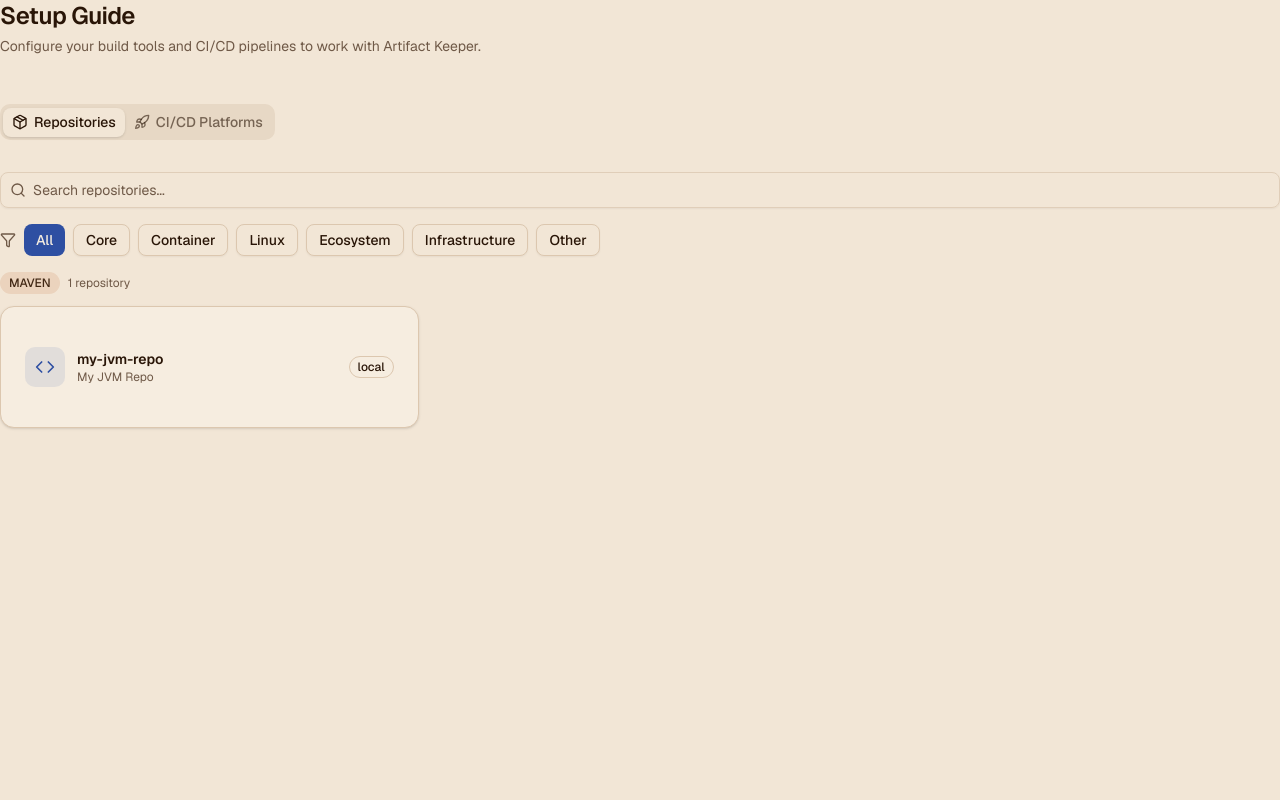
Test: SetupPage - JVM client variants › shows pom.xml snippet on the Maven tab (the default for maven format)
Expected: the text "my-jvm-repo" is shown, [77, 350, 163, 368]
What coordinates should you click on to do the following:
click the text "my-jvm-repo"
I would click on:
 (209, 367)
Its box is [0, 306, 419, 428].
(page scrolled)
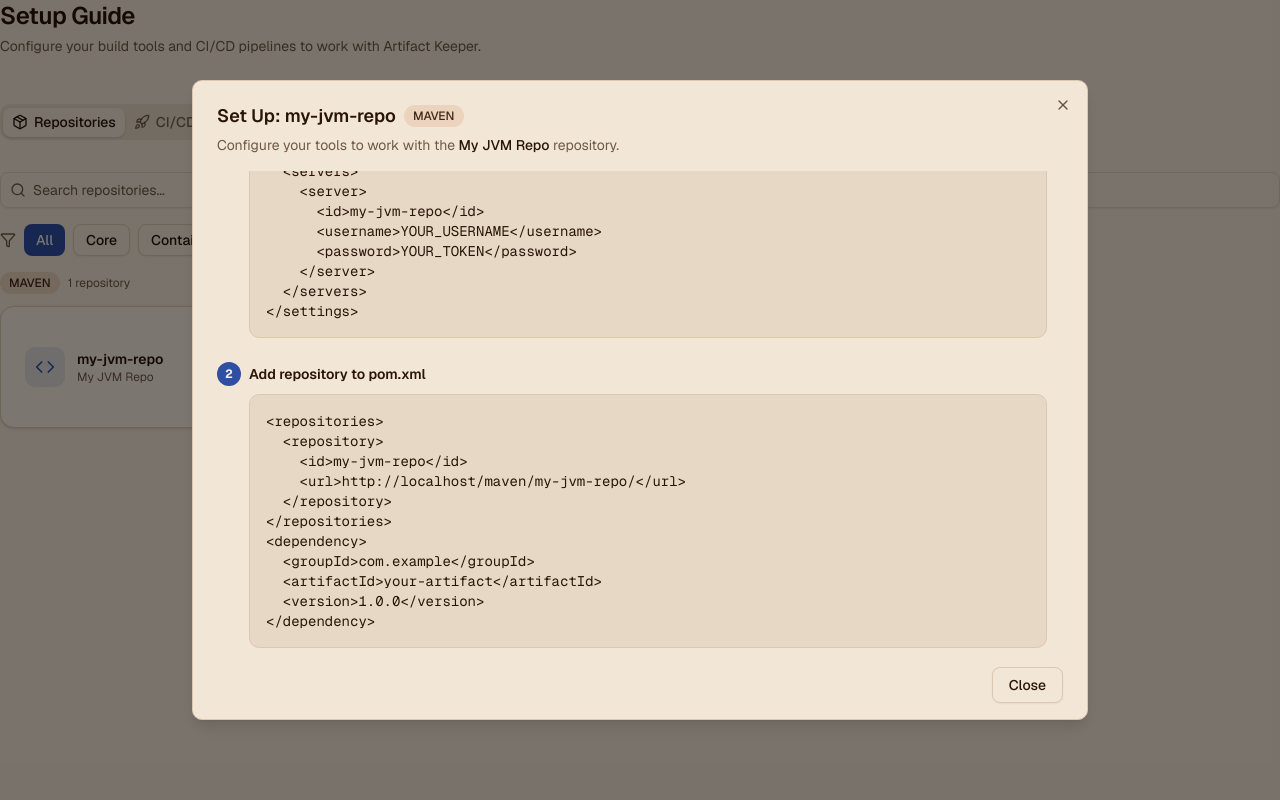
Result: the dialog is shown at [192, 80, 1088, 720]
